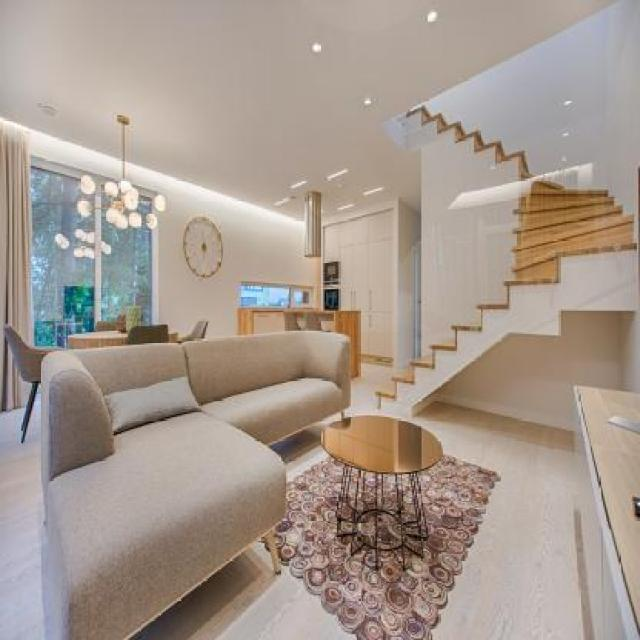Floor: (344, 360, 595, 640), (128, 542, 357, 640), (0, 393, 60, 640), (268, 413, 342, 483)
